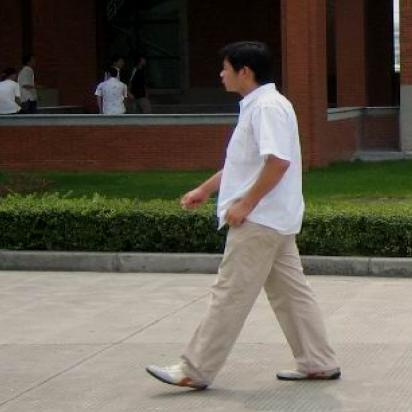ped: (147, 41, 339, 389)
